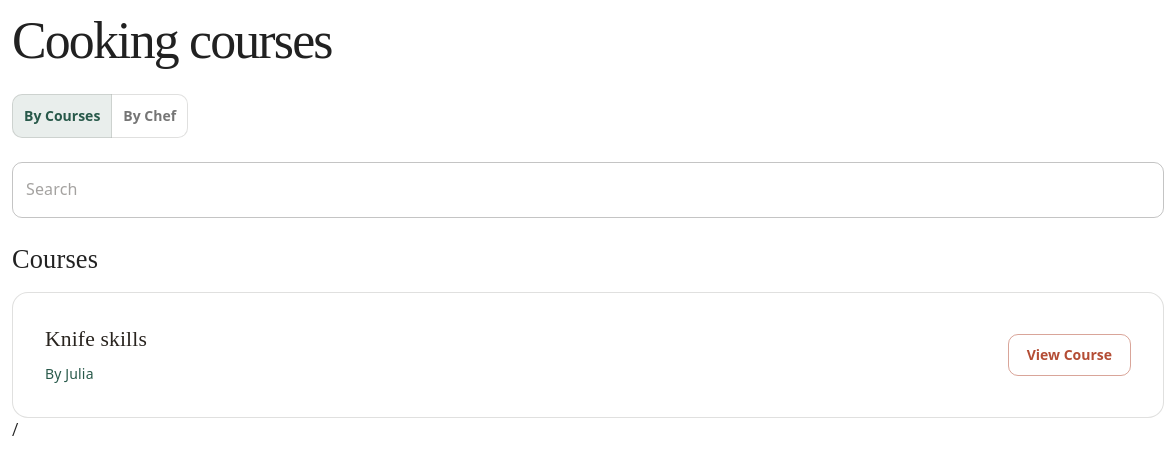
Test: course list searches and navigates to a selected lesson
Expected: the heading "Knife skills" is shown, [45,327,147,351]
Type "Knife" into the field. click: (588, 190)
box: [12,162,1164,218]
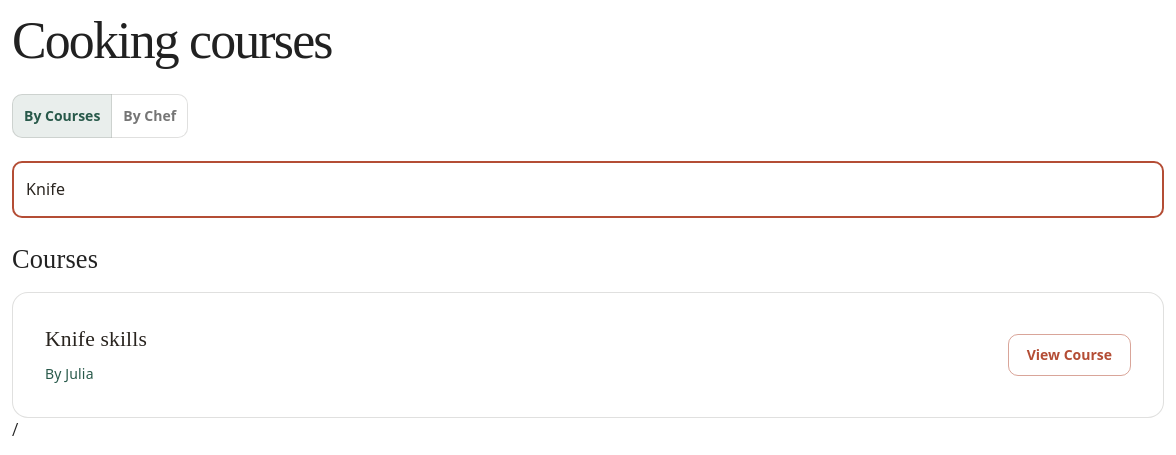
Click the button "View Course". click: (1069, 355)
box: [1008,334,1131,376]
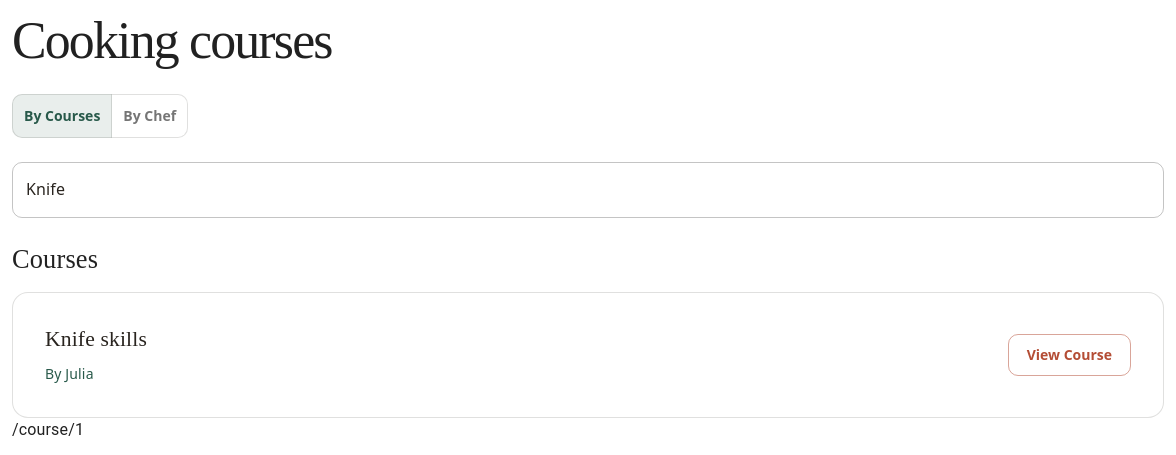
Now the text with test id "location" reads "/course/1", box [12,420,84,439]
